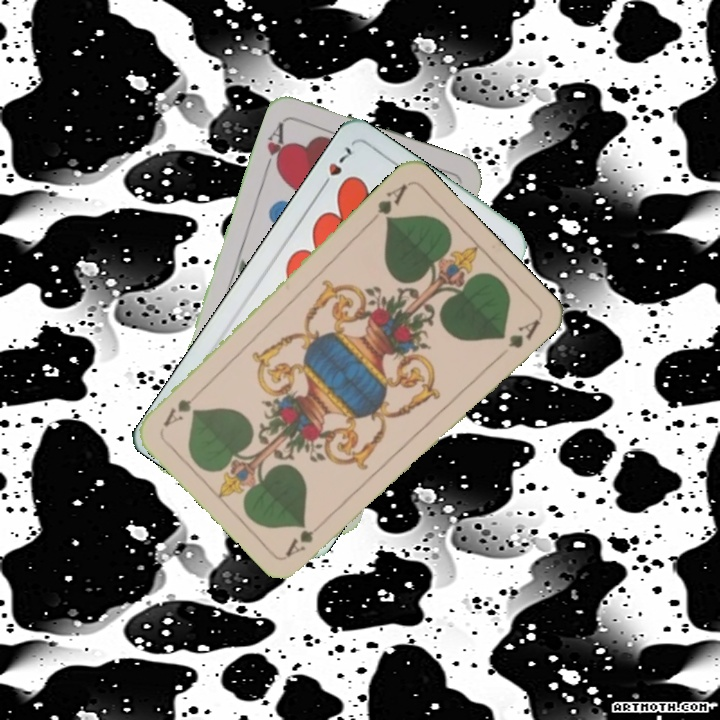GA: (282, 514, 331, 559), (365, 179, 410, 227)
H7: (316, 142, 354, 193)
HA: (260, 118, 290, 175)
